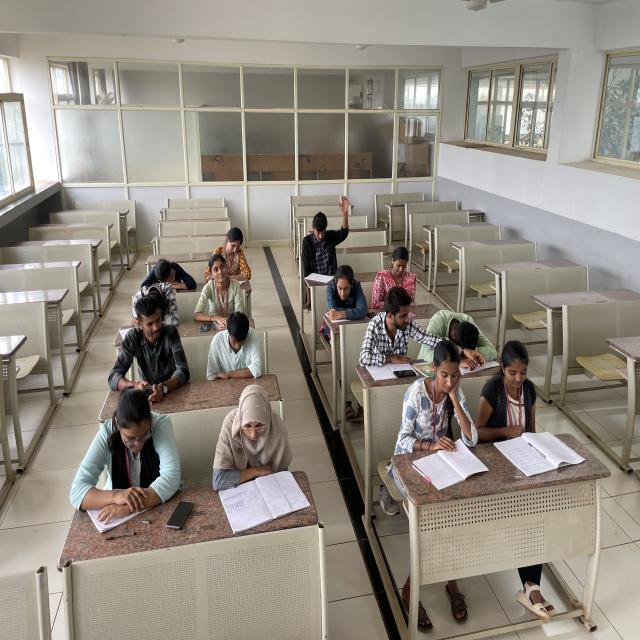Hand Rising: (294, 192, 356, 272)
Reading: (216, 380, 301, 514), (409, 342, 479, 480), (477, 336, 555, 445), (211, 222, 258, 296)
Sleeping: (427, 303, 501, 371), (126, 275, 183, 330), (140, 256, 198, 294)
Using Phone: (107, 293, 191, 403)
